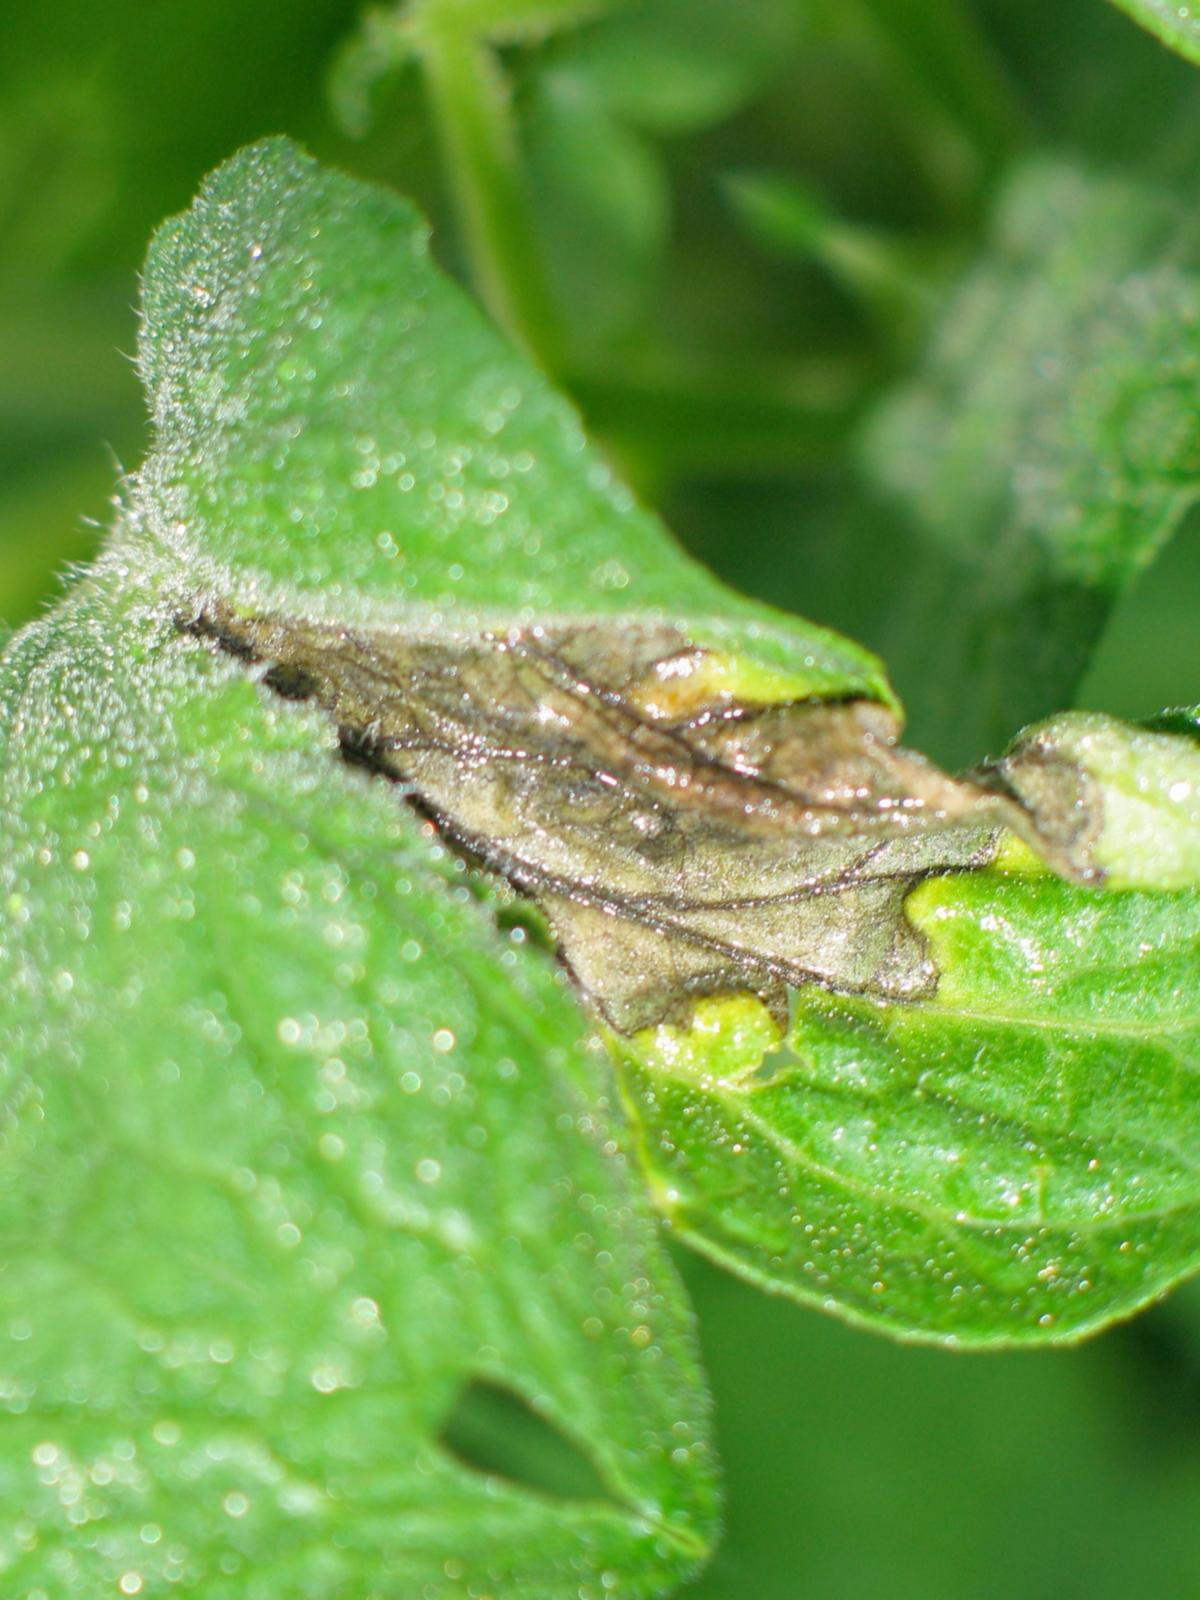Tomato leaf late blight: (0, 23, 1200, 1600)
